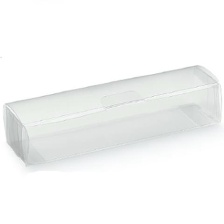plastic_box: (0, 59, 224, 175)
